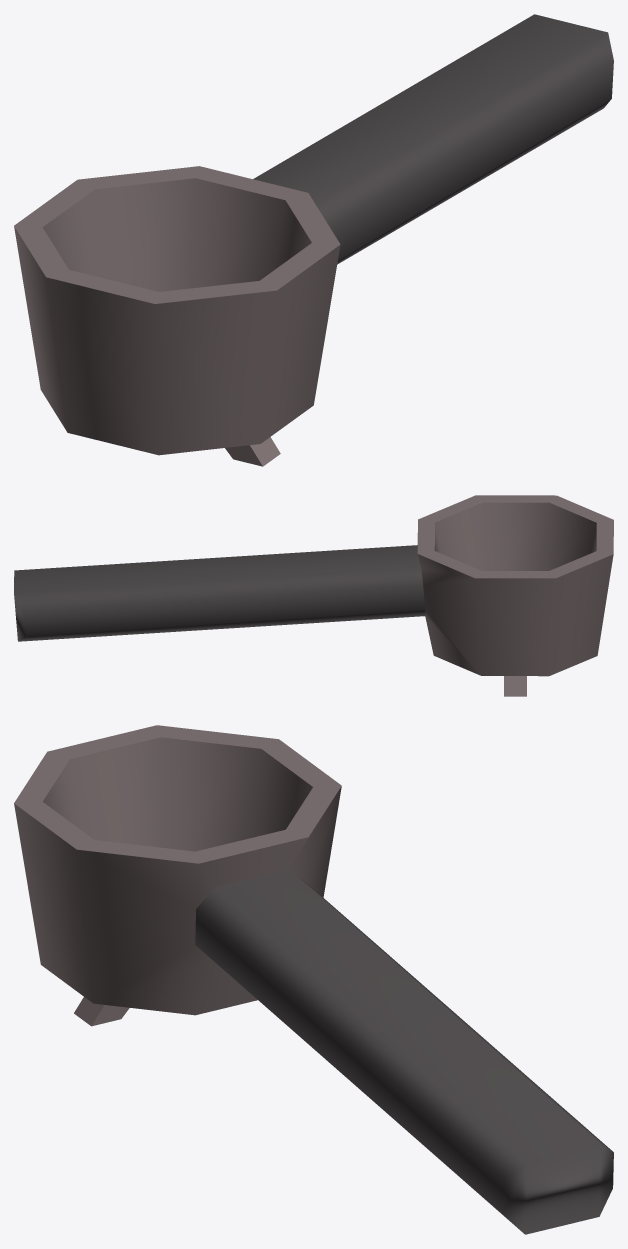
Rendered from SM_Coffee_Machine_Portafilter_01.fbx.
The picture shows the model from 3 angles, top to bottom: view 1: azimuth 30°, elevation 25°; view 2: azimuth 150°, elevation 25°; view 3: azimuth 270°, elevation 25°; orthographic projection. The views are drawn at different scales.
Parts seen in each view (by area): view 1: SM_Coffee_Machine_Portafilter_01; view 2: SM_Coffee_Machine_Portafilter_01; view 3: SM_Coffee_Machine_Portafilter_01.
Boxes of the visible parts, x1,y1,x2,y2 form: SM_Coffee_Machine_Portafilter_01: [14, 14, 613, 466]; SM_Coffee_Machine_Portafilter_01: [14, 495, 613, 696]; SM_Coffee_Machine_Portafilter_01: [14, 725, 613, 1234].
Bounding box in the file's own units: 19.44 × 5.02 × 13.49.
